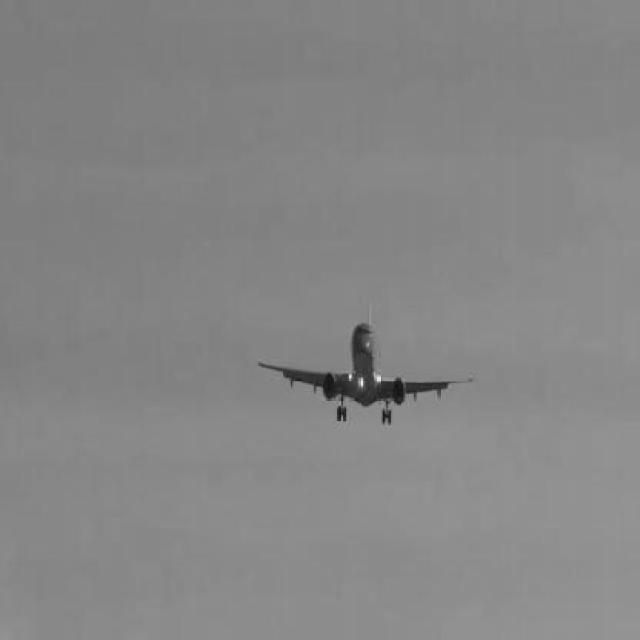aeroplane: (257, 319, 475, 424)
